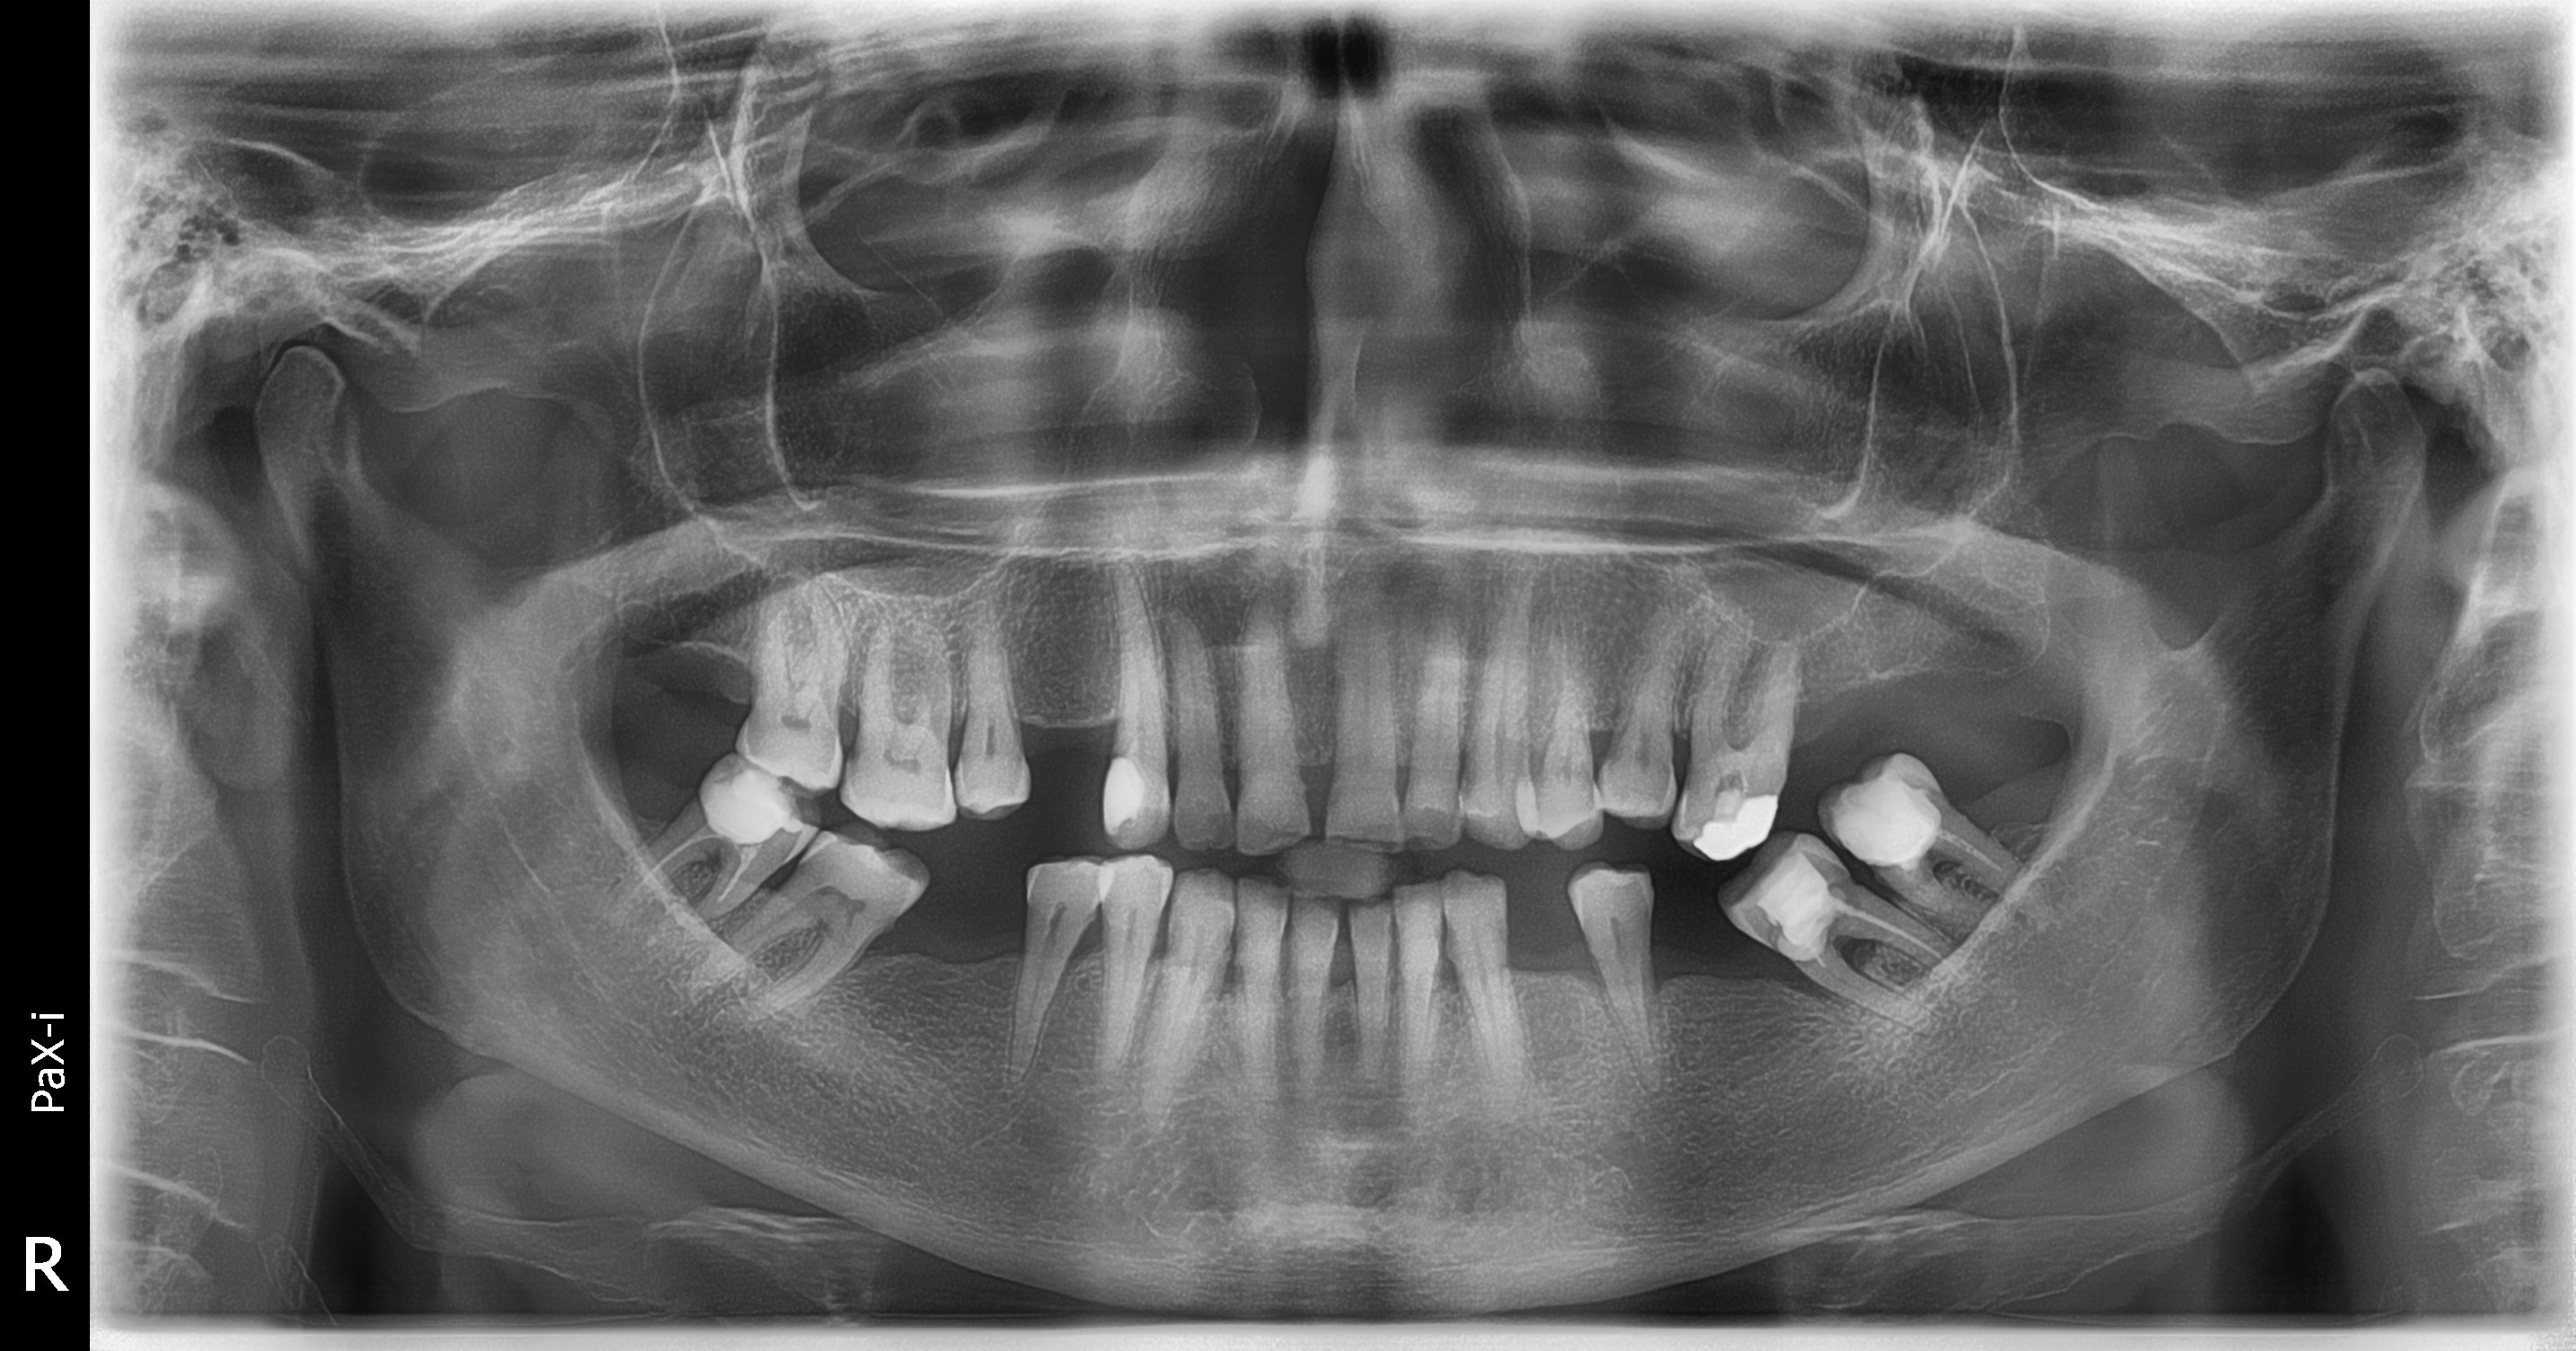END: (613, 823, 763, 920)
FUR: (697, 845, 722, 874)
OBT: (695, 768, 804, 845)
